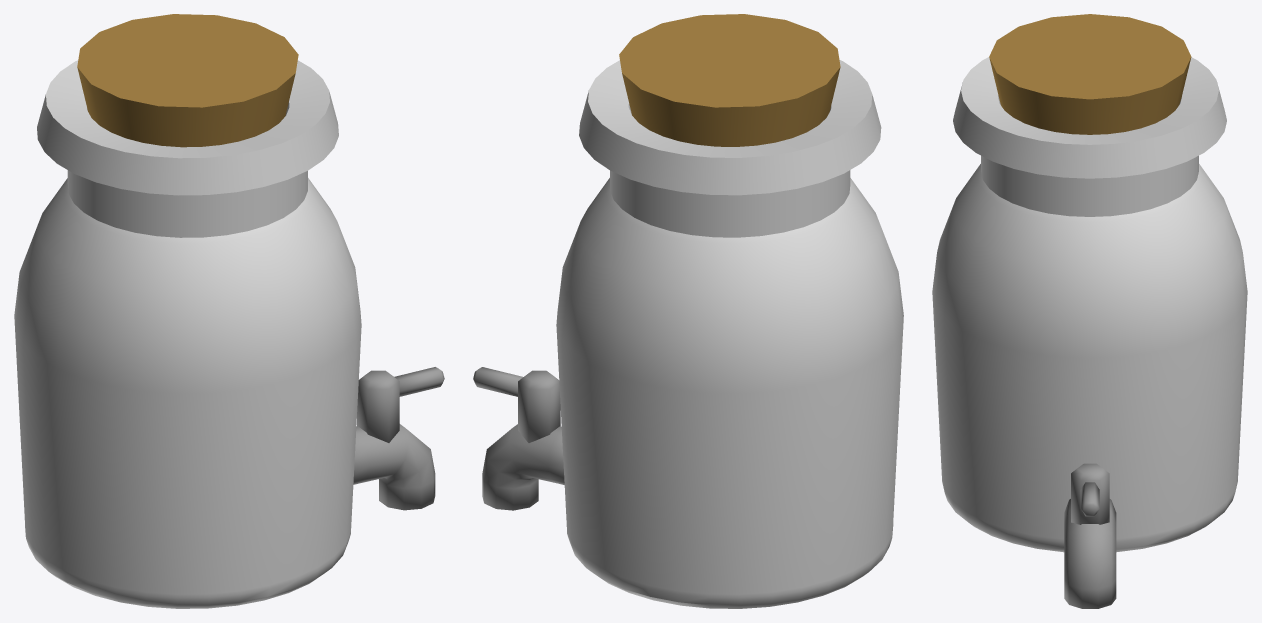
Rendered from Bottle.fbx.
3 views of the same model, side by side, from view 1: azimuth 30°, elevation 25°; view 2: azimuth 150°, elevation 25°; view 3: azimuth 270°, elevation 25° (orthographic). The views are drawn at different scales.
Parts seen in each view (by area): view 1: Bottle, Cap, Tap, TapTop; view 2: Bottle, Cap, Tap, TapTop; view 3: Bottle, Cap, Tap, TapTop.
Part boxes in pixels (box(x1,y1,x2,y2)): Bottle: box(14, 60, 361, 608); Cap: box(77, 14, 298, 147); Tap: box(353, 424, 435, 510); TapTop: box(357, 367, 444, 442); Bottle: box(556, 59, 903, 608); Cap: box(619, 14, 840, 146); Tap: box(482, 424, 564, 510); TapTop: box(473, 367, 560, 442); Bottle: box(932, 57, 1247, 552); Cap: box(989, 14, 1191, 134); Tap: box(1064, 499, 1116, 608); TapTop: box(1071, 463, 1109, 524).
Bounding box in the file's own units: 19.3 × 30.04 × 25.86.
